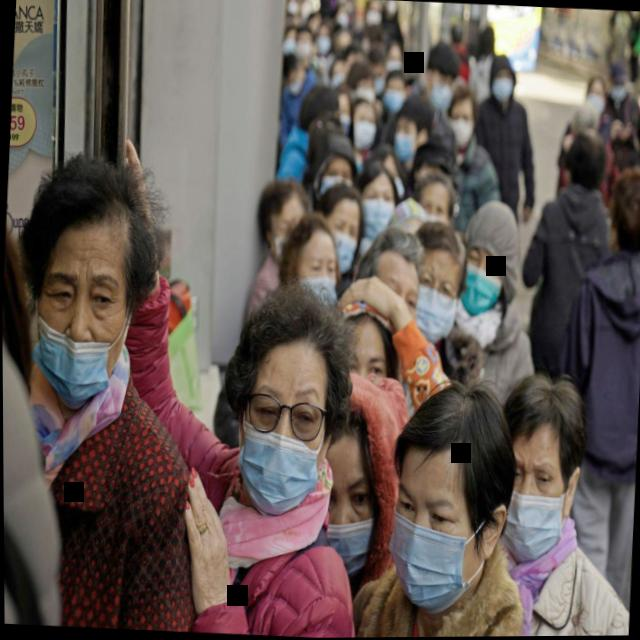Mask: (15, 146, 147, 413), (381, 382, 519, 622), (224, 285, 344, 520), (316, 374, 399, 590), (496, 375, 586, 569), (459, 203, 519, 334), (405, 217, 465, 345), (317, 181, 366, 280), (358, 163, 397, 243), (393, 93, 427, 164), (444, 87, 478, 149), (348, 98, 378, 150), (487, 62, 520, 108), (384, 71, 408, 113), (315, 24, 331, 56)
